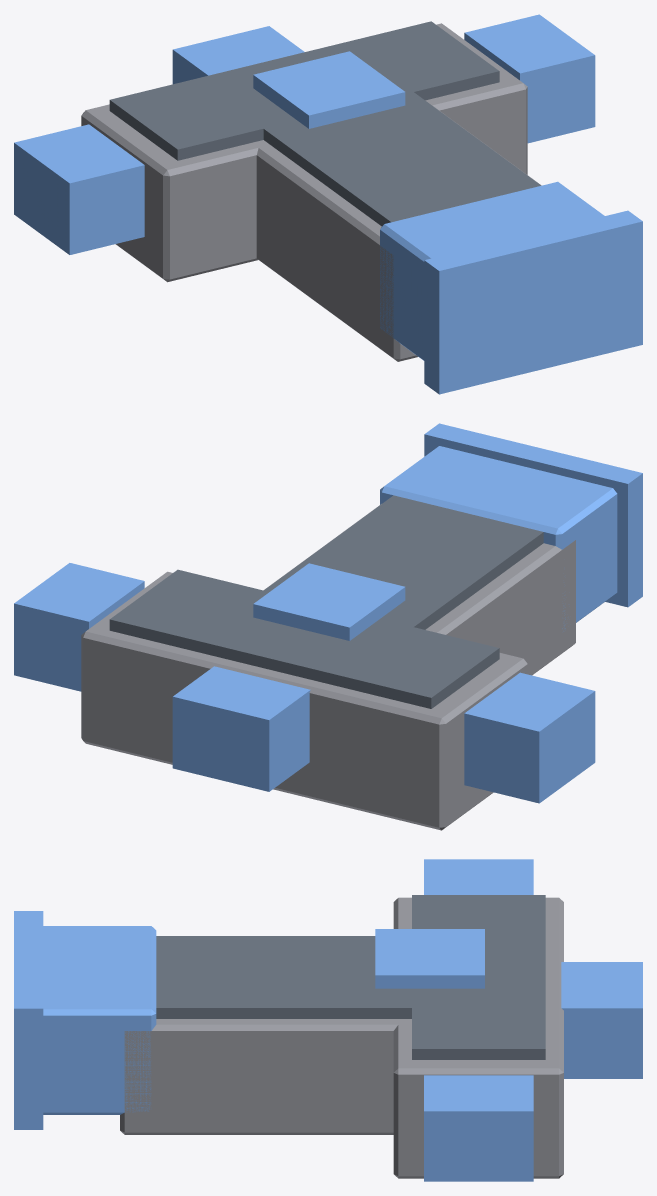
File: splitter_01.glb
The picture shows the model from 3 angles, top to bottom: view 1: azimuth 30°, elevation 25°; view 2: azimuth 150°, elevation 25°; view 3: azimuth 270°, elevation 25°; orthographic projection.
Visible parts, largest first — view 1: splitter_01; view 2: splitter_01; view 3: splitter_01.
Part boxes in pixels (left/top/right/bottom): splitter_01: left=14, top=14, right=642, bottom=394; splitter_01: left=14, top=423, right=642, bottom=830; splitter_01: left=14, top=859, right=642, bottom=1181.
Bounding box in the file's own units: 2.45 × 0.64 × 2.58.
